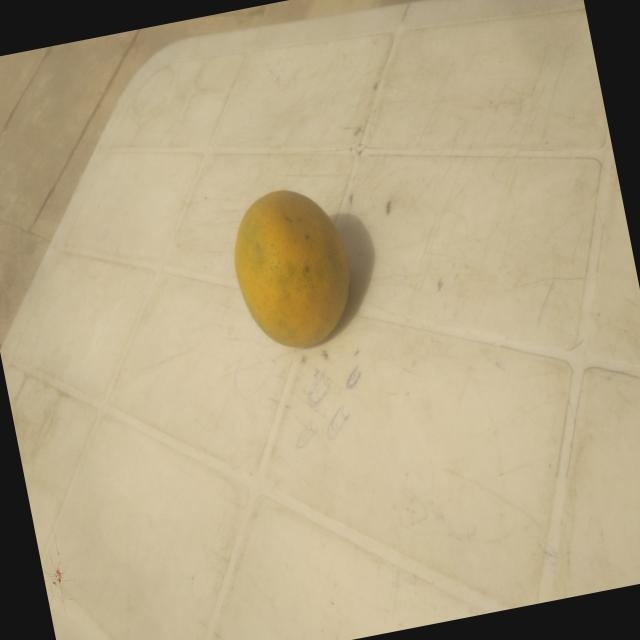agrume: (198, 140, 393, 408)
